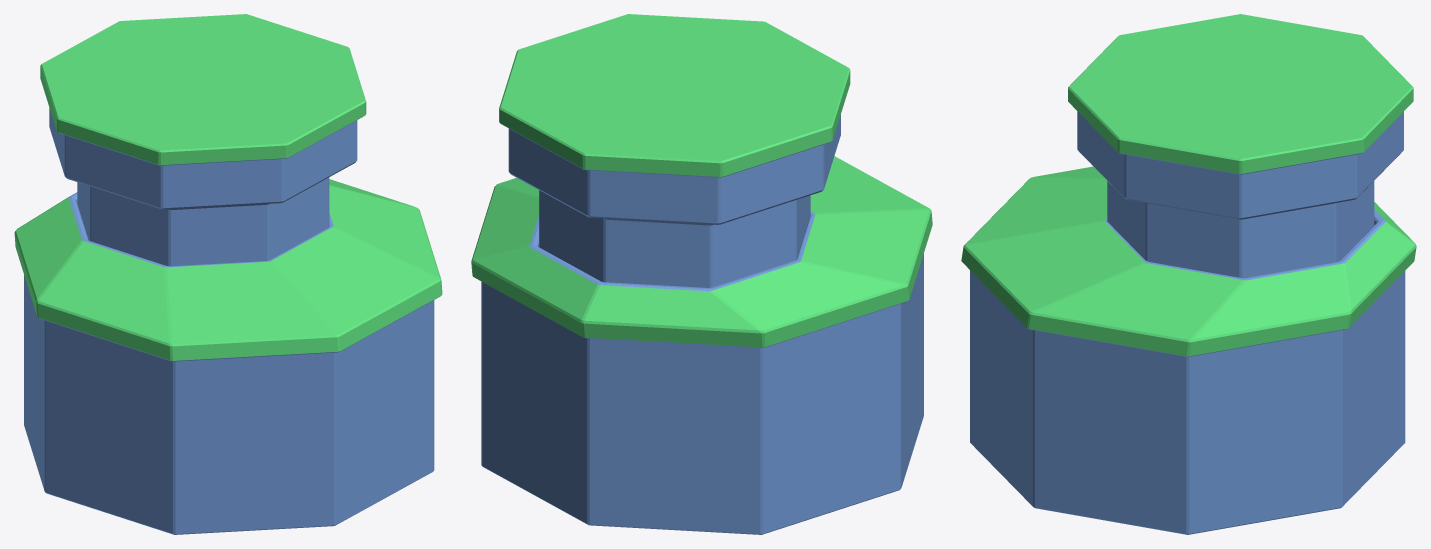
The model's file is Rock 5.fbx.
3 views of the same model, side by side, from view 1: azimuth 30°, elevation 25°; view 2: azimuth 150°, elevation 25°; view 3: azimuth 270°, elevation 25° (orthographic). The views are drawn at different scales.
Parts seen in each view (by area): view 1: Rock 5; view 2: Rock 5; view 3: Rock 5.
Boxes of the visible parts, left/top/right/bottom form: Rock 5: left=14, top=14, right=442, bottom=534; Rock 5: left=471, top=14, right=932, bottom=534; Rock 5: left=961, top=14, right=1416, bottom=534.
Size of the model in its own units: 148 by 129 by 149.
